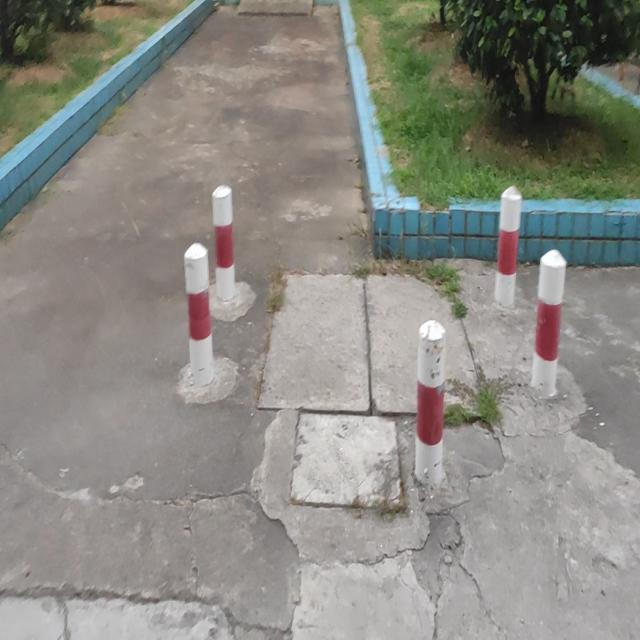warning_column: (414, 315, 449, 484), (530, 246, 566, 395), (180, 241, 215, 381), (492, 185, 523, 312), (211, 184, 235, 302)
